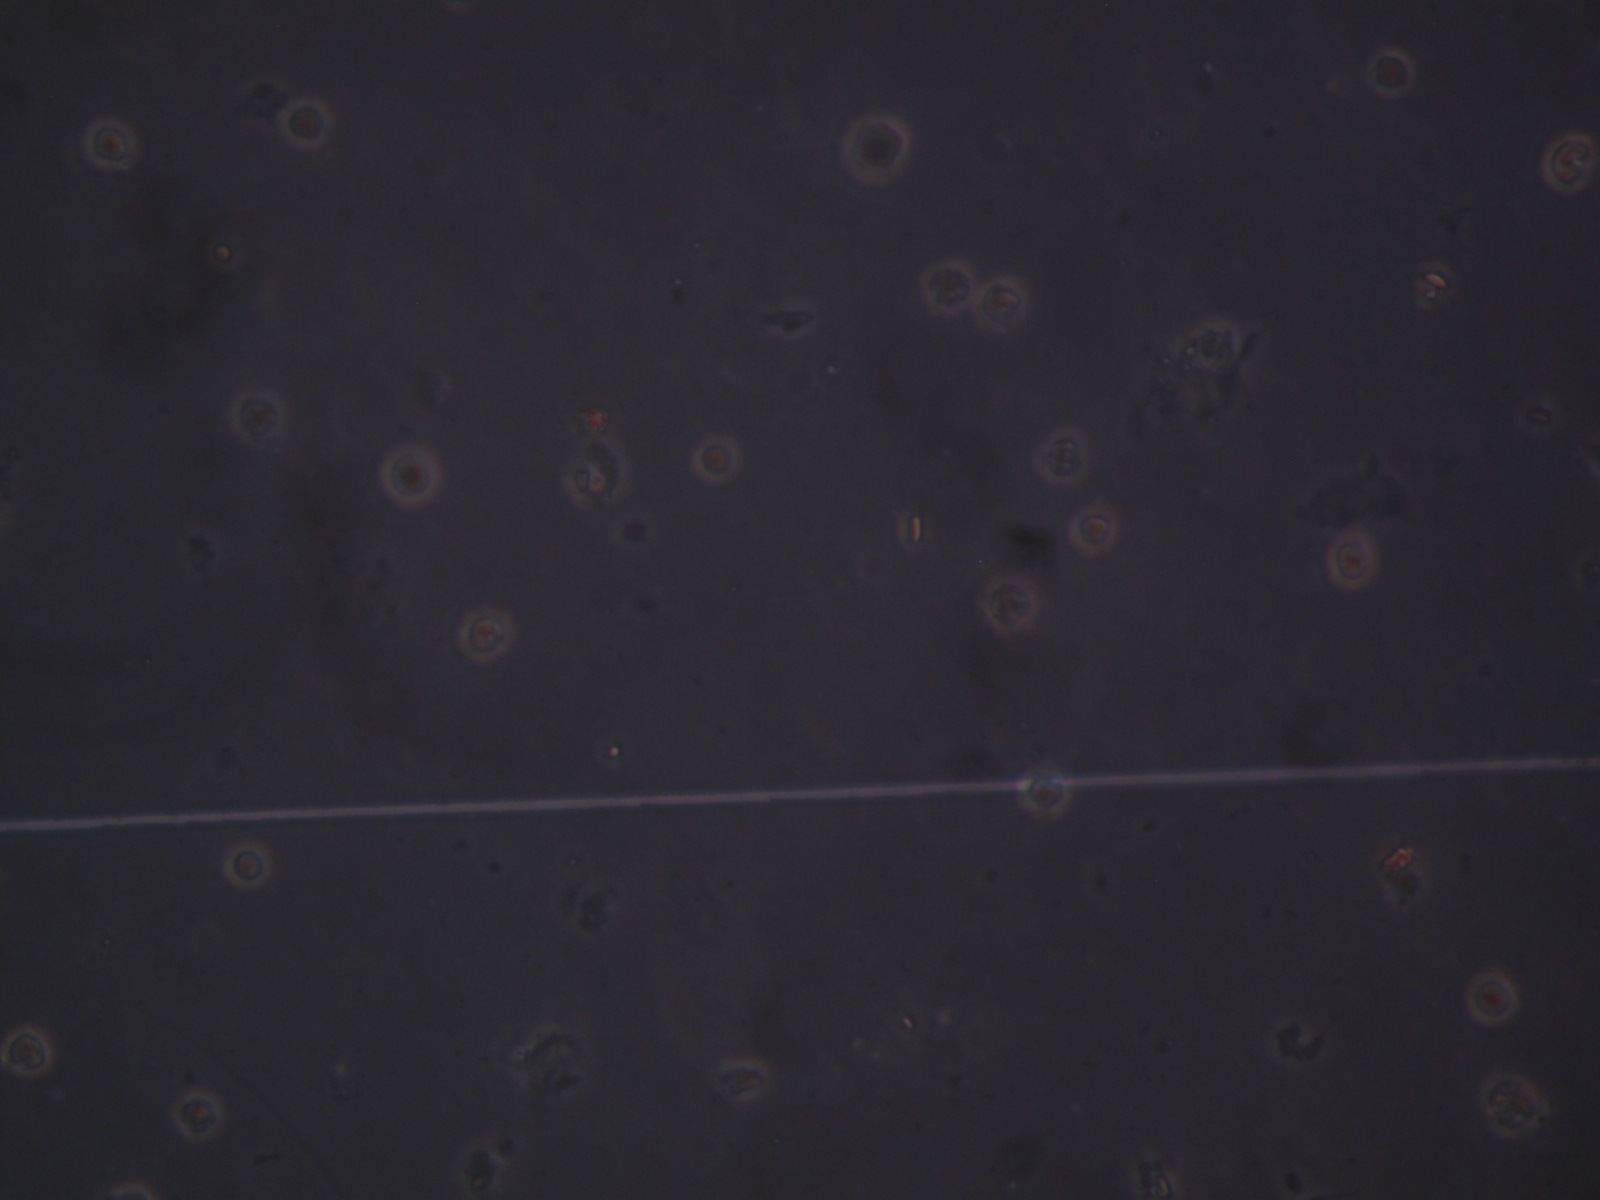hemo: (838, 111, 918, 188), (1477, 1068, 1540, 1137), (380, 444, 443, 505), (456, 605, 517, 667), (1031, 426, 1089, 487), (981, 576, 1041, 632), (83, 113, 139, 171), (1541, 134, 1594, 194), (228, 386, 283, 442), (917, 258, 975, 313), (1464, 971, 1519, 1026), (1323, 534, 1377, 591), (168, 1089, 226, 1142), (277, 95, 333, 149), (1188, 313, 1243, 366), (975, 277, 1026, 335), (218, 838, 272, 889), (1366, 47, 1416, 100), (1018, 765, 1071, 816), (690, 432, 741, 484), (1068, 504, 1117, 556), (3, 1025, 52, 1076), (711, 1060, 771, 1102)
